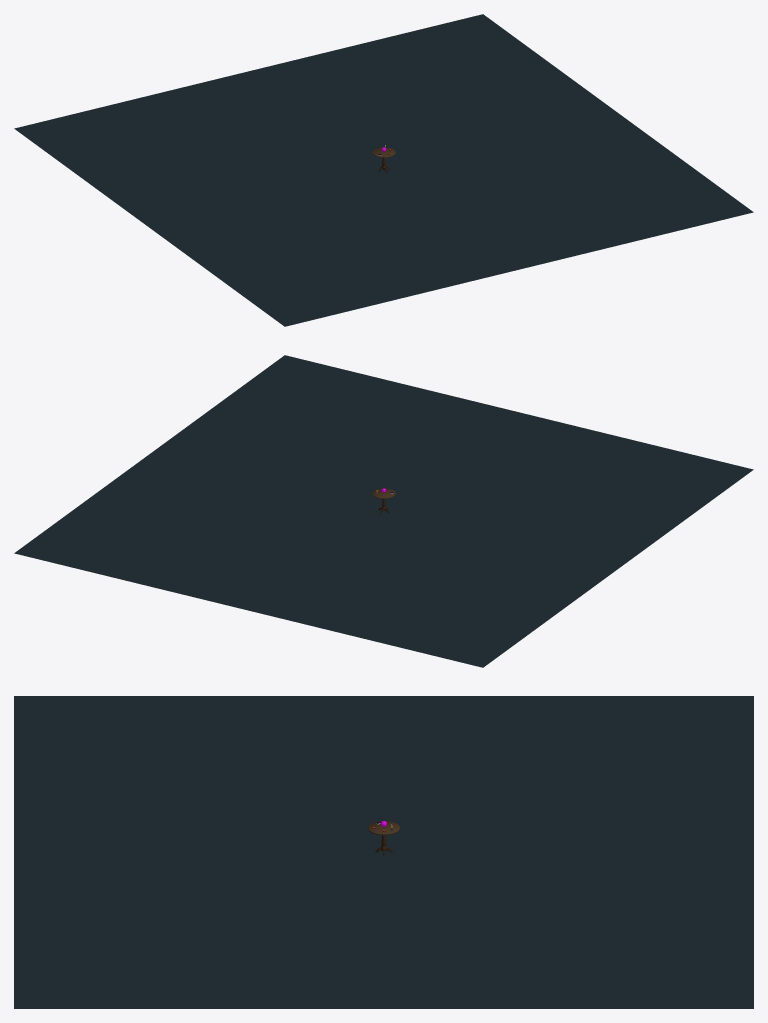
Rendered from low_poly_magic_table.glb.
The picture shows the model from 3 angles, top to bottom: view 1: azimuth 30°, elevation 25°; view 2: azimuth 150°, elevation 25°; view 3: azimuth 270°, elevation 25°; orthographic projection. The views are drawn at different scales.
Parts seen in each view (by area): view 1: Table.001; view 2: Table.001; view 3: Table.001.
Part boxes in pixels (x1=…): Table.001: x1=14, y1=14, x2=753, y2=326; Table.001: x1=14, y1=355, x2=753, y2=667; Table.001: x1=14, y1=696, x2=753, y2=1008.
Size of the model in its own units: 49.51 by 2.31 by 49.51.
3 materials, 2 textured.
